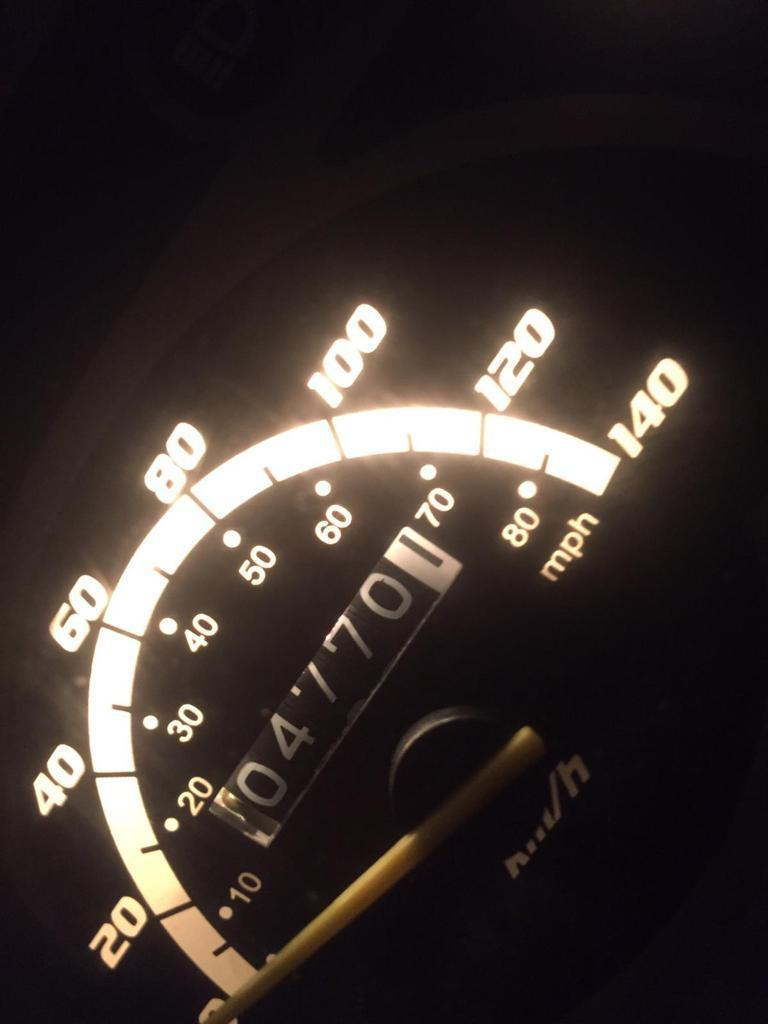0: (358, 571, 417, 625), (234, 763, 291, 810), (249, 542, 278, 570), (192, 610, 219, 636), (189, 775, 215, 798)
1: (395, 530, 447, 573)
4: (265, 709, 320, 762)
5: (235, 561, 266, 587)
6: (311, 520, 343, 546)
7: (318, 611, 378, 670), (286, 661, 339, 712)
odometer: (196, 522, 476, 849)
